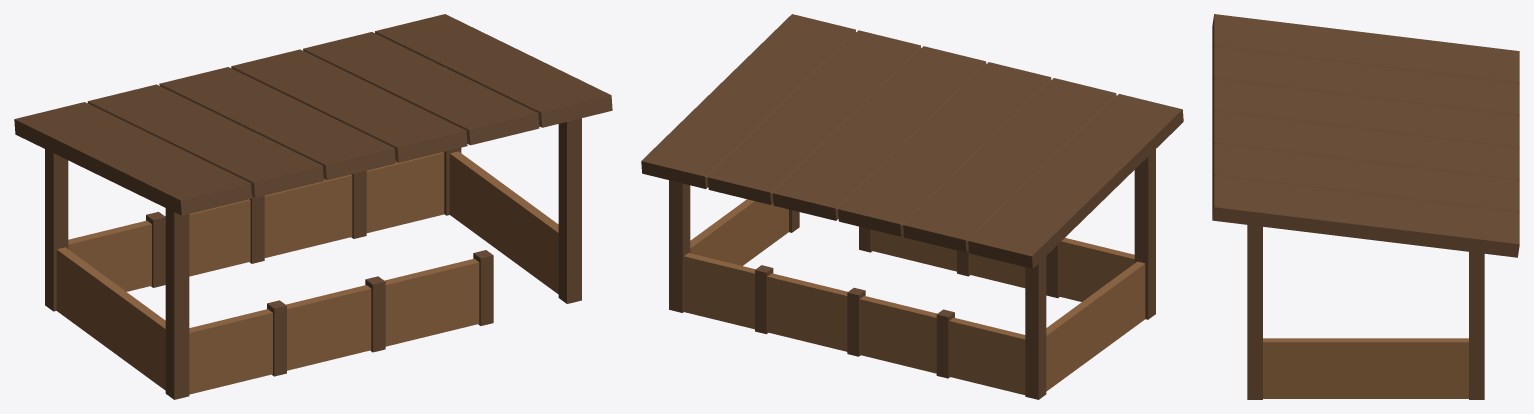
File: ArcheryRange_shed_mat.fbx
The picture shows the model from 3 angles, left to right: view 1: azimuth 30°, elevation 25°; view 2: azimuth 150°, elevation 25°; view 3: azimuth 270°, elevation 25°; orthographic projection. The views are drawn at different scales.
Visible parts, largest first — view 1: ArcheryRange_shed_mat; view 2: ArcheryRange_shed_mat; view 3: ArcheryRange_shed_mat.
Boxes of the visible parts, x1,y1,x2,y2 form: ArcheryRange_shed_mat: [14, 14, 612, 399]; ArcheryRange_shed_mat: [641, 14, 1183, 399]; ArcheryRange_shed_mat: [1212, 14, 1519, 399].
Size of the model in its own units: 378 by 182 by 254.
